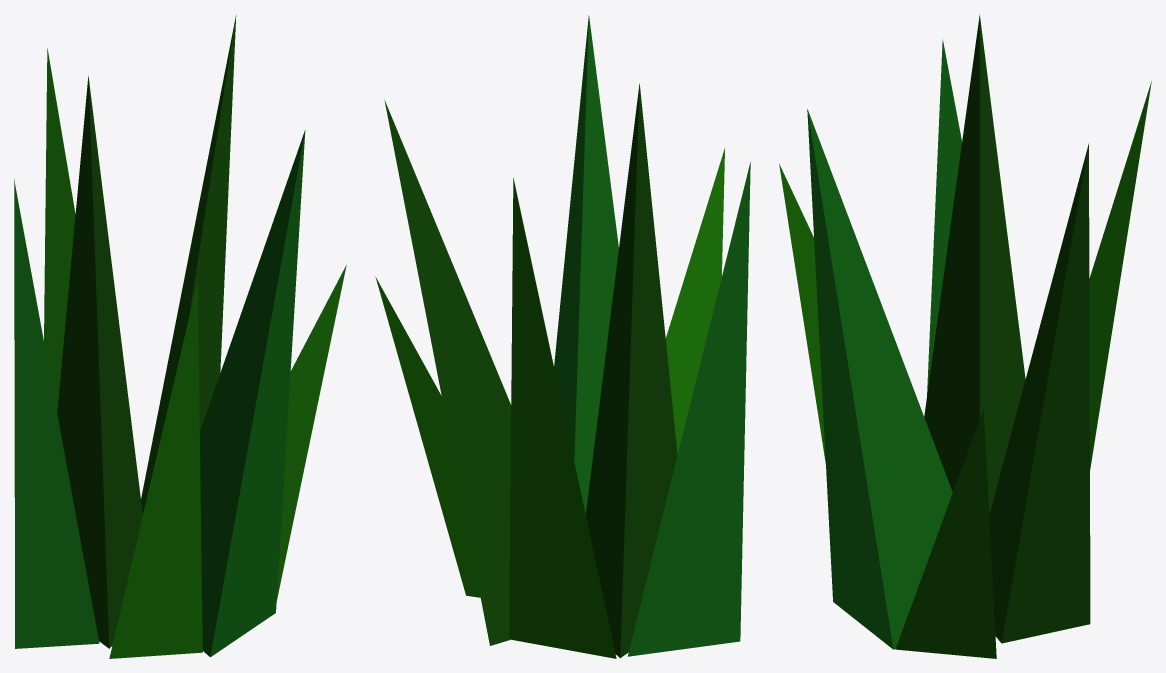
Rendered from grass-8.glb.
3 views of the same model, side by side, from view 1: azimuth 30°, elevation 25°; view 2: azimuth 150°, elevation 25°; view 3: azimuth 270°, elevation 25° (orthographic). The views are drawn at different scales.
Visible parts, largest first — view 1: Grass 8; view 2: Grass 8; view 3: Grass 8.
Part boxes in pixels (<box>): Grass 8: <box>14,15,346,658</box>; Grass 8: <box>375,15,750,658</box>; Grass 8: <box>779,14,1151,658</box>.
Bounding box in the file's own units: 1.48 × 2.19 × 1.31.
